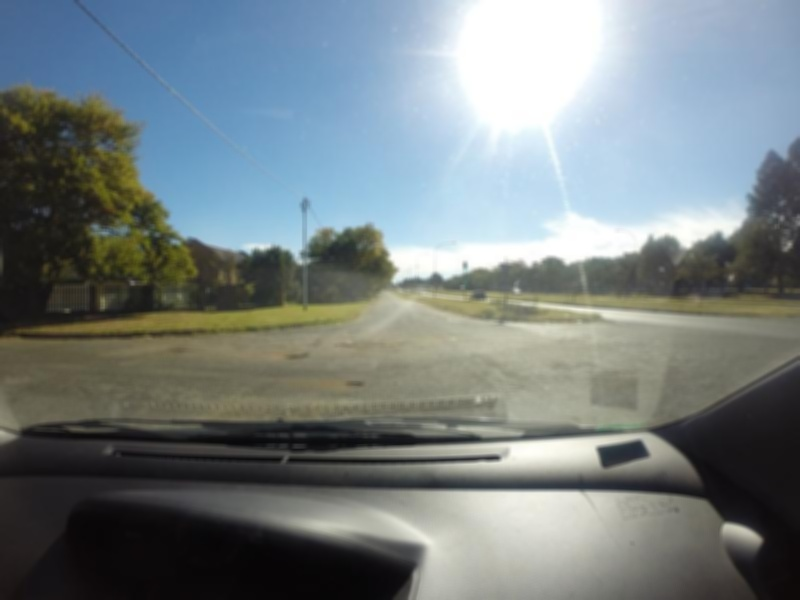pothole: (163, 344, 202, 357), (282, 353, 320, 363), (345, 379, 371, 386)
